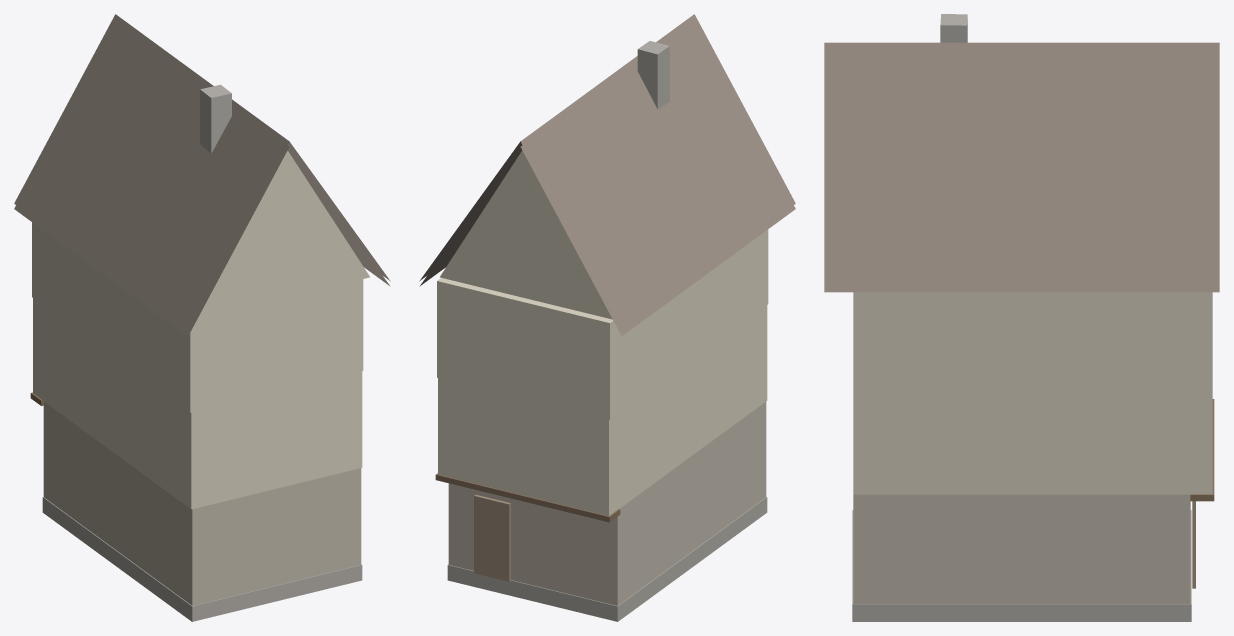
File: house_narrow_c_lod1.glb
3 renders of one model, left to right at view 1: azimuth 30°, elevation 25°; view 2: azimuth 150°, elevation 25°; view 3: azimuth 270°, elevation 25°, orthographic. The views are drawn at different scales.
Visible parts, largest first — view 1: house_narrow_c_lod1; view 2: house_narrow_c_lod1; view 3: house_narrow_c_lod1.
Part boxes in pixels (x1=…): house_narrow_c_lod1: x1=14, y1=14, x2=390, y2=621; house_narrow_c_lod1: x1=419, y1=14, x2=795, y2=621; house_narrow_c_lod1: x1=824, y1=14, x2=1219, y2=621.
Size of the model in its own units: 5.48 by 12.43 by 8.15.
